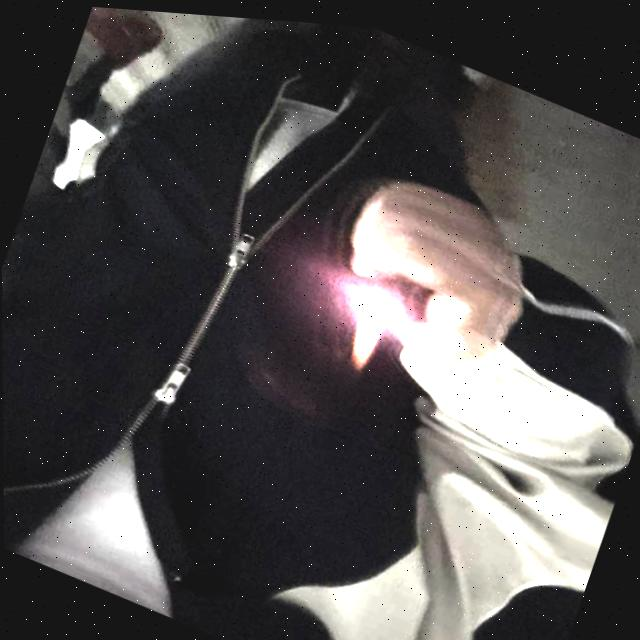Fire: (342, 289, 389, 368)
